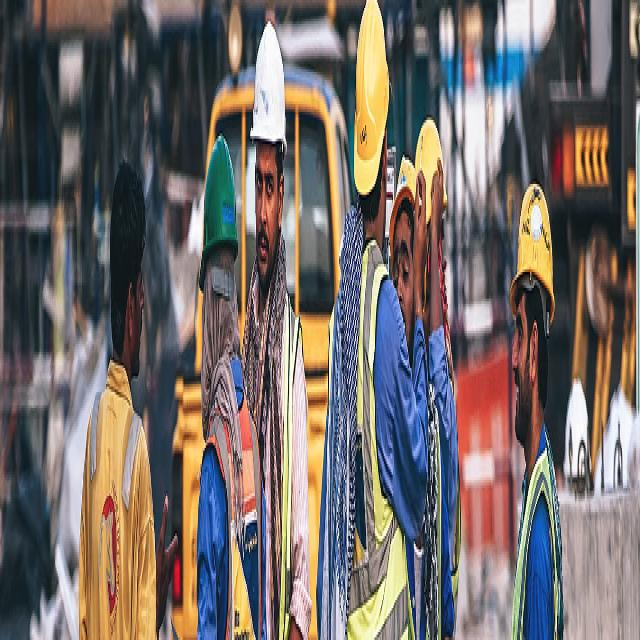Reflective-Jacket: (346, 238, 411, 638), (240, 245, 304, 640), (76, 357, 159, 640), (417, 326, 462, 638), (508, 435, 563, 637)
Safety-Helmet: (351, 0, 390, 200), (509, 168, 557, 323), (194, 120, 239, 285), (250, 11, 288, 160), (411, 104, 448, 235), (390, 144, 422, 256)
